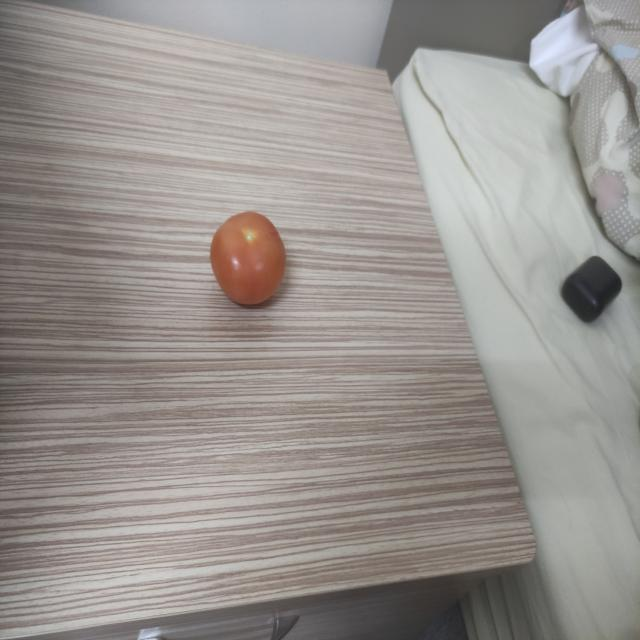sari: (209, 202, 296, 312)
